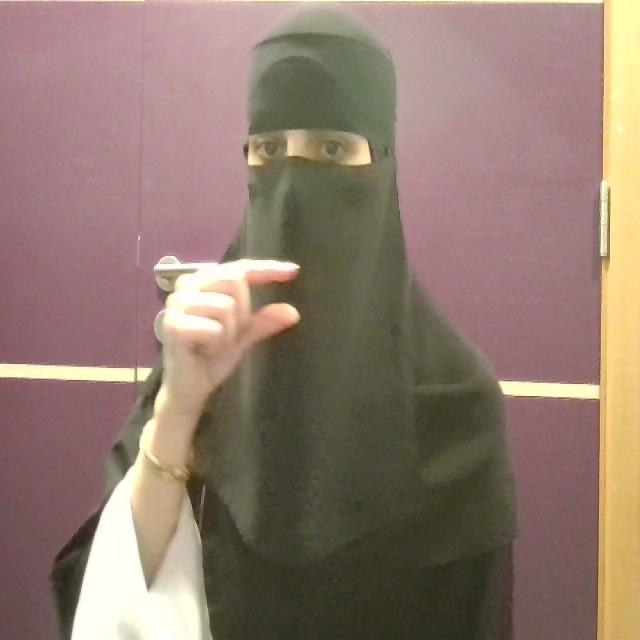fasting: (152, 256, 301, 416)
